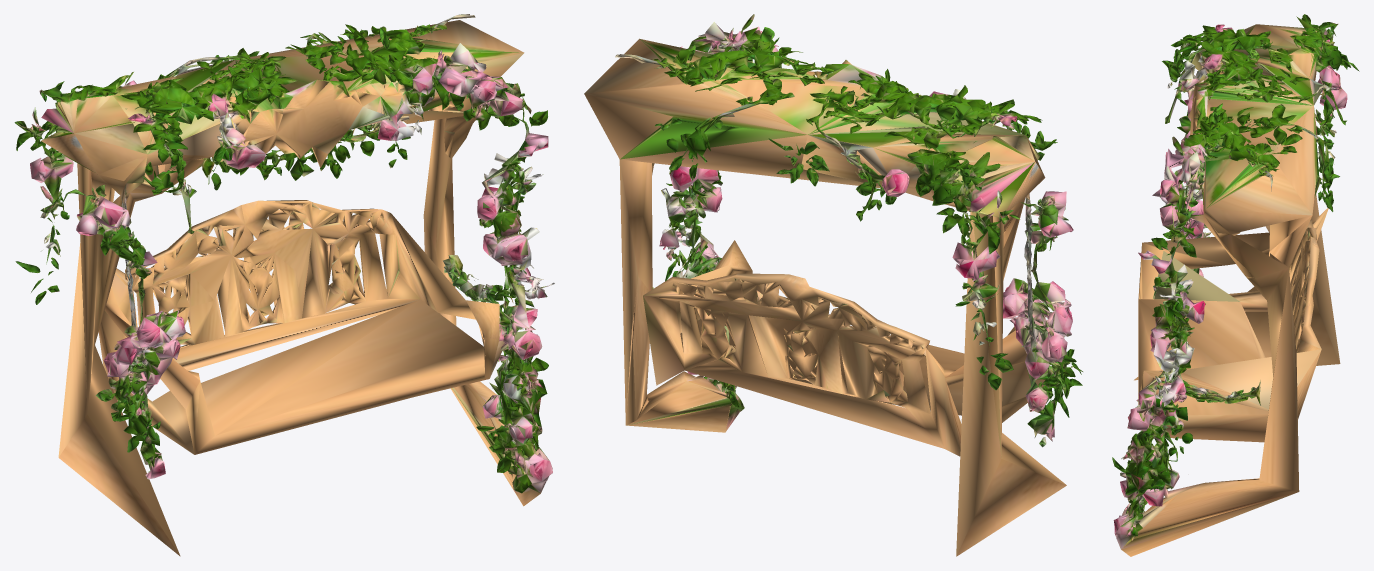
File: For_Diana_This_beauti.glb
3 views of the same model, side by side, from view 1: azimuth 30°, elevation 25°; view 2: azimuth 150°, elevation 25°; view 3: azimuth 270°, elevation 25° (orthographic). The views are drawn at different scales.
Parts seen in each view (by area): view 1: For_Diana_This_beauti; view 2: For_Diana_This_beauti; view 3: For_Diana_This_beauti.
Part boxes in pixels (bbox=[...]): For_Diana_This_beauti: bbox=[14, 14, 554, 556]; For_Diana_This_beauti: bbox=[584, 14, 1082, 556]; For_Diana_This_beauti: bbox=[1112, 14, 1359, 556].
Bounding box in the file's own units: 1.9 × 1.88 × 1.02.
1 material, 1 textured.
